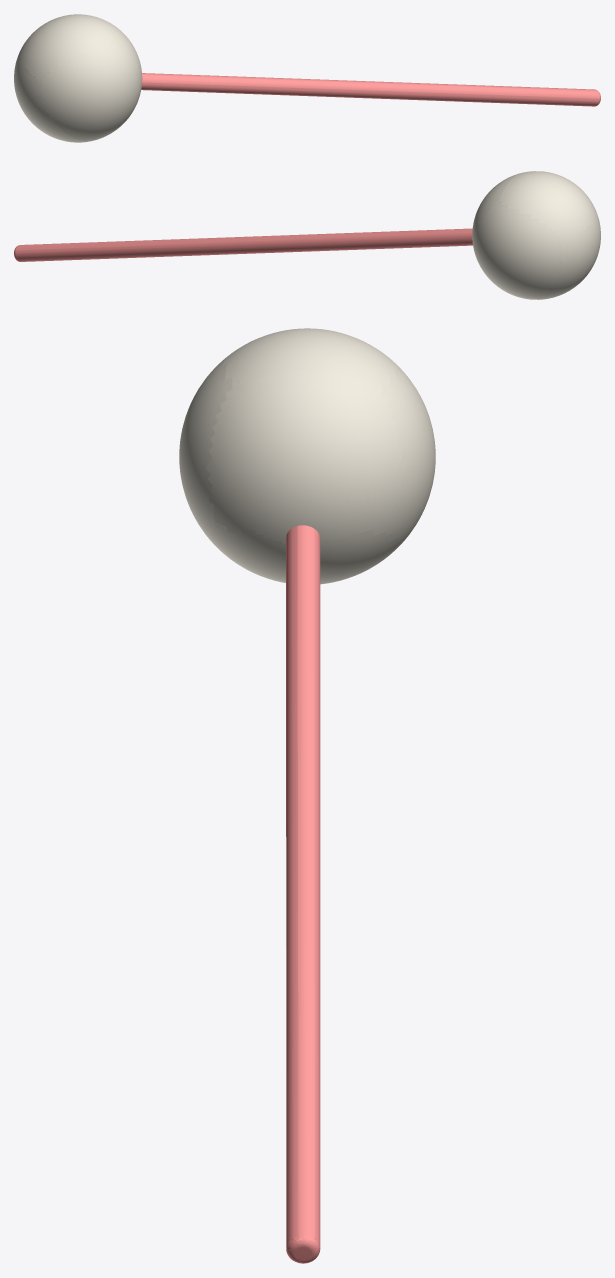
The model's file is hammer.gltf.
The picture shows the model from 3 angles, top to bottom: view 1: azimuth 30°, elevation 25°; view 2: azimuth 150°, elevation 25°; view 3: azimuth 270°, elevation 25°; orthographic projection. The views are drawn at different scales.
Visible parts, largest first — view 1: mesh_1, mesh_0; view 2: mesh_1, mesh_0; view 3: mesh_1, mesh_0.
Boxes of the visible parts, x1,y1,x2,y2 form: mesh_1: [14, 14, 142, 142]; mesh_0: [141, 73, 600, 106]; mesh_1: [472, 171, 600, 299]; mesh_0: [14, 228, 472, 261]; mesh_1: [179, 328, 435, 584]; mesh_0: [286, 525, 320, 1263].
Bounding box in the file's own units: 0.1818 × 0.0634 × 0.0351.
